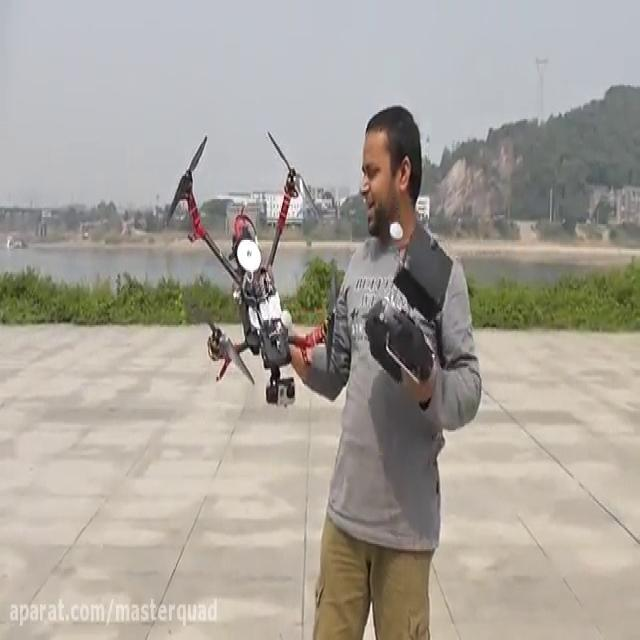drone: (164, 128, 338, 409)
